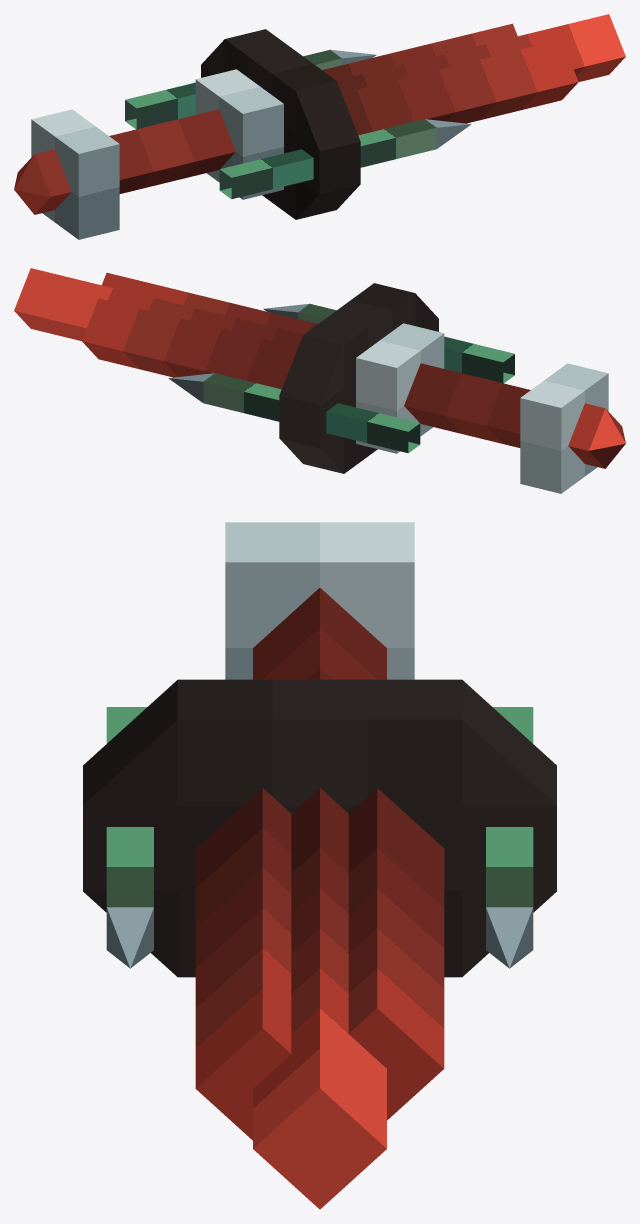
Rendered from signalite_seer_body.obj.
3 renders of one model, top to bottom at view 1: azimuth 30°, elevation 25°; view 2: azimuth 150°, elevation 25°; view 3: azimuth 270°, elevation 25°, orthographic. The views are drawn at different scales.
Visible parts, largest first — view 1: SEER_BODY_Cube, SPIKE_Cube.004; view 2: SEER_BODY_Cube, SPIKE_Cube.004; view 3: SEER_BODY_Cube, SPIKE_Cube.004.
Boxes of the visible parts, bbox=[...] form: SEER_BODY_Cube: bbox=[14, 29, 471, 239]; SPIKE_Cube.004: bbox=[322, 14, 625, 135]; SEER_BODY_Cube: bbox=[168, 283, 625, 493]; SPIKE_Cube.004: bbox=[14, 268, 317, 389]; SEER_BODY_Cube: bbox=[83, 522, 556, 977]; SPIKE_Cube.004: bbox=[195, 788, 444, 1209].
Bounding box in the file's own units: 0.9062 × 0.1875 × 0.3125.
